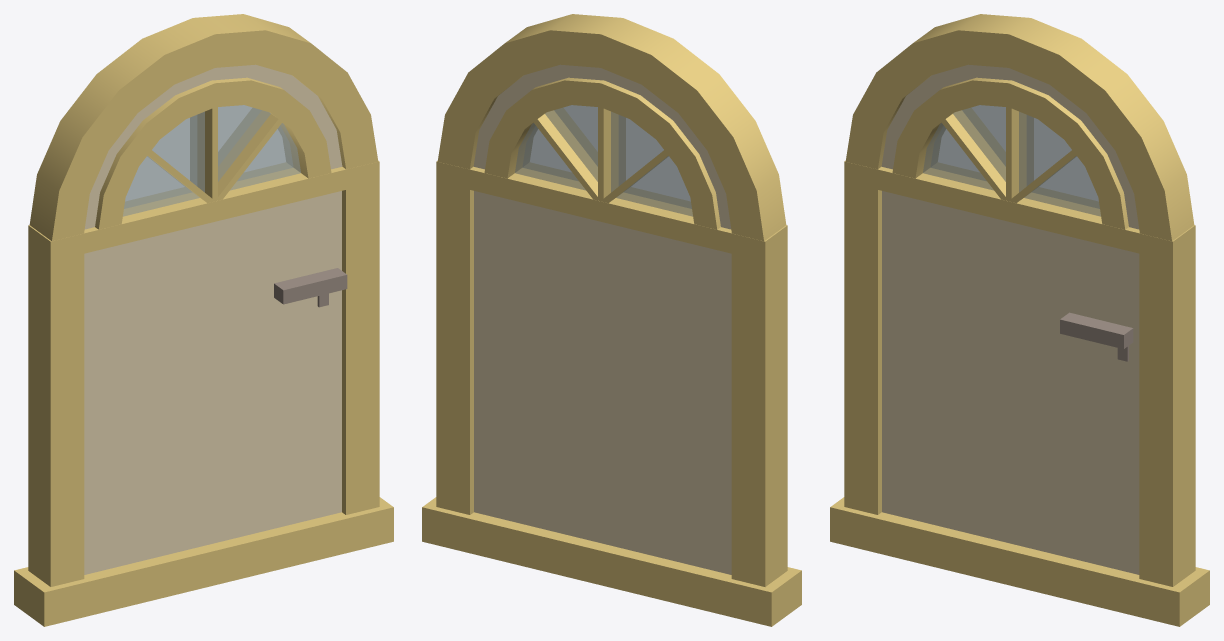
Rendered from kapı 2.2.3.fbx.
3 renders of one model, left to right at view 1: azimuth 30°, elevation 25°; view 2: azimuth 150°, elevation 25°; view 3: azimuth 330°, elevation 25°, orthographic.
Parts seen in each view (by area): view 1: pCube26; view 2: pCube26; view 3: pCube26.
Part boxes in pixels (left/top/right/bottom): pCube26: left=14, top=14, right=393, bottom=626; pCube26: left=422, top=14, right=801, bottom=626; pCube26: left=830, top=14, right=1209, bottom=626.
Size of the model in its own units: 967 by 1446 by 167.
